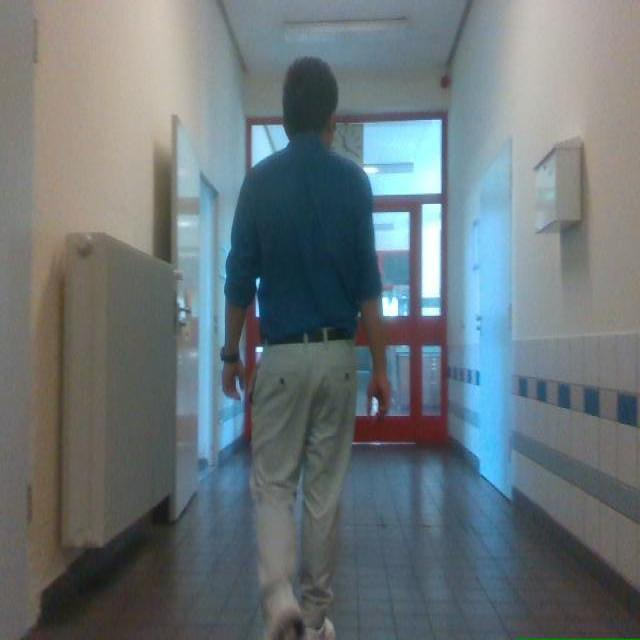humans: (221, 57, 390, 639)
